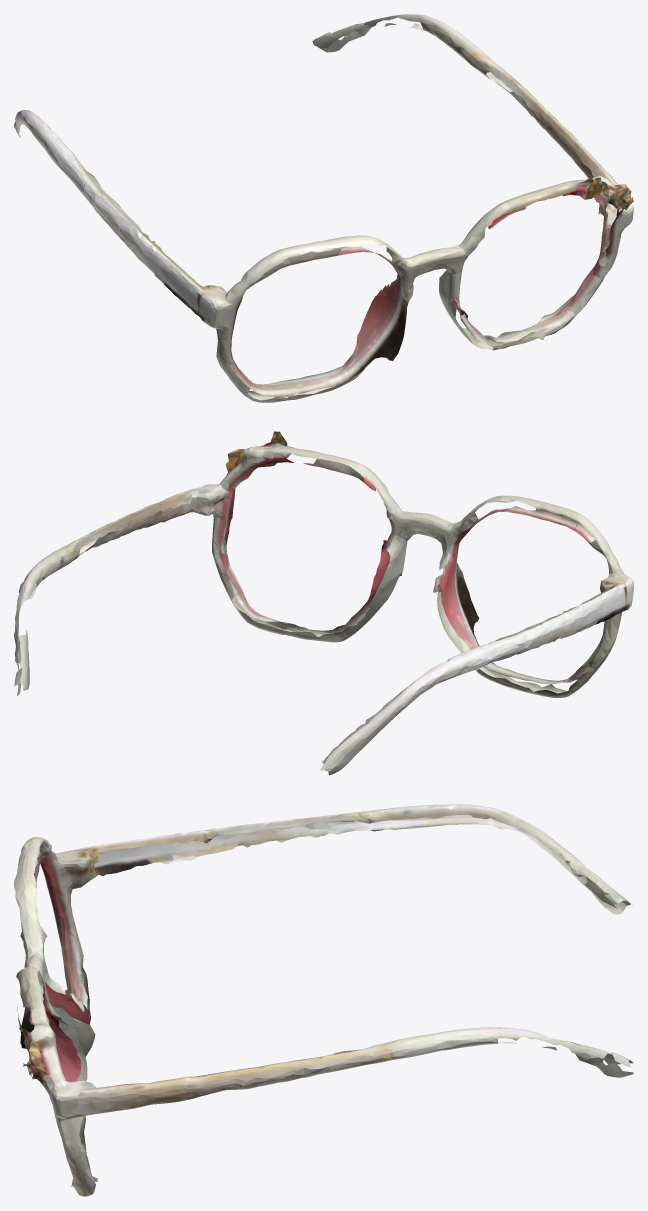
The model's file is scan_align.obj.
3 renders of one model, top to bottom at view 1: azimuth 30°, elevation 25°; view 2: azimuth 150°, elevation 25°; view 3: azimuth 270°, elevation 25°, orthographic. The views are drawn at different scales.
Bounding box in the file's own units: 0.1298 × 0.0486 × 0.1378.
Materials: 1 (1 with a texture image).
